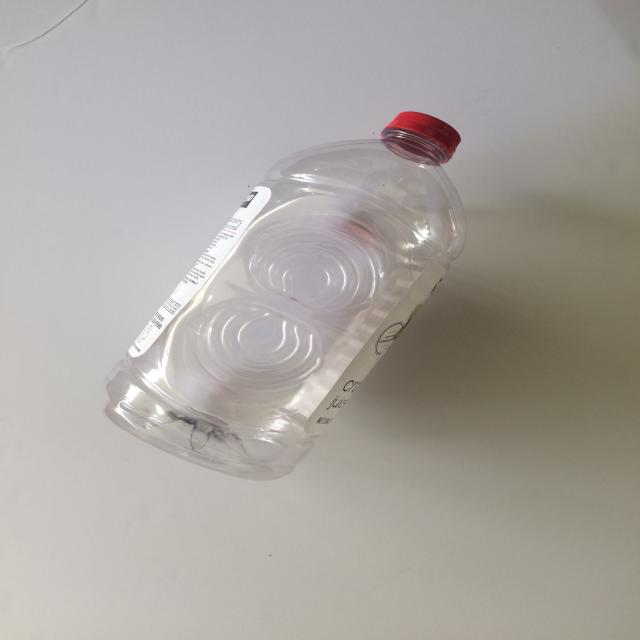plastic: (102, 112, 467, 481)
